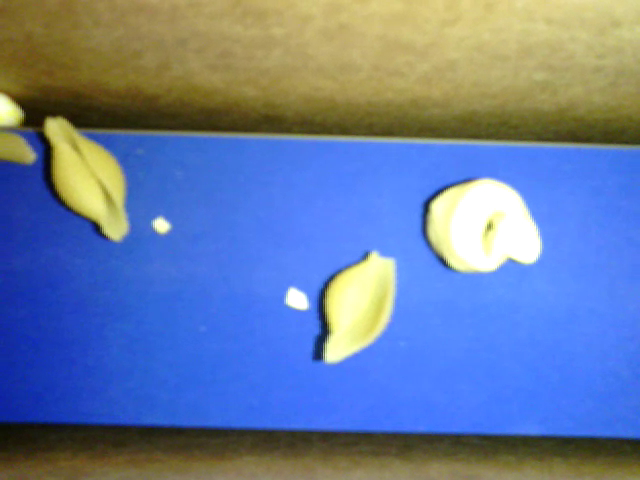shell: (43, 117, 128, 242), (321, 251, 395, 364)
tortellini: (426, 177, 542, 274)
